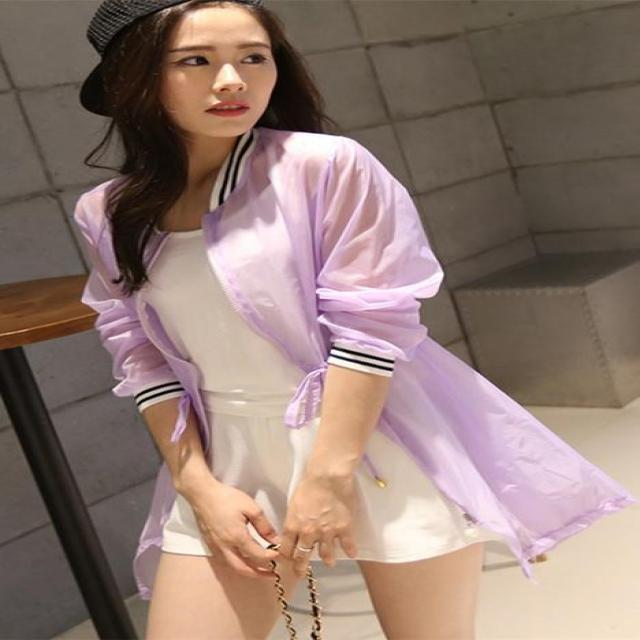long sleeve outwear: (81, 160, 163, 410), (142, 375, 211, 594)
shorts: (164, 379, 501, 558)
